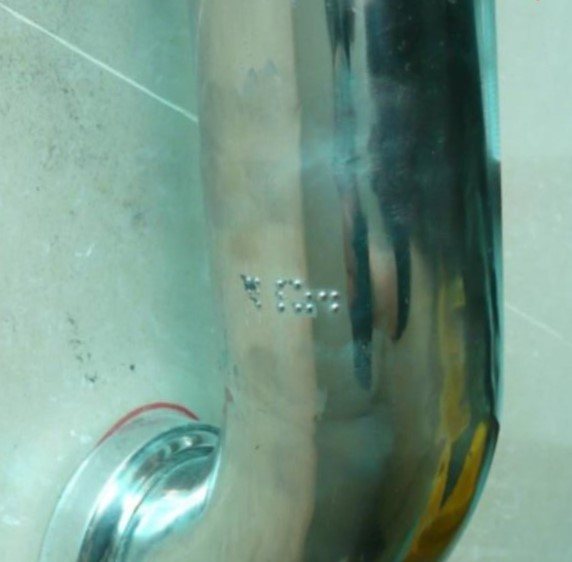Braille: (319, 281, 340, 313), (245, 276, 264, 310), (294, 280, 313, 314), (277, 279, 294, 310)
